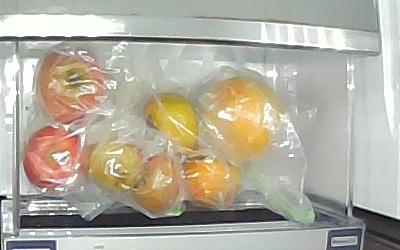apple_vinyl: (35, 47, 107, 124), (24, 126, 87, 193)
grapefruit_vinyl: (201, 77, 282, 164)
persimmon_vinyl: (145, 92, 198, 151), (183, 155, 241, 207)
prune_vinyl: (89, 140, 146, 192), (136, 154, 183, 212)
